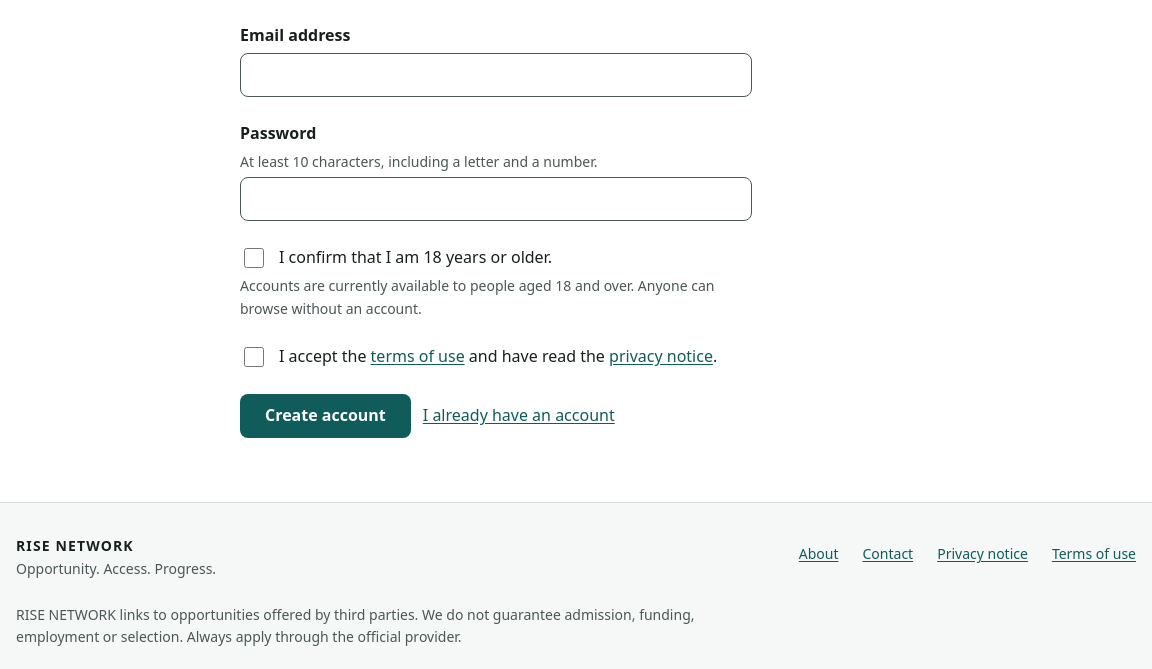
Test case: registration (FR-001) › shows field errors and does not call the API when the form is incomplete
The width and height of the screenshot is (1152, 669).
(page scrolled)
Step 1. Click the button "Create account" → (325, 416), box [240,394,411,438]
(page scrolled)
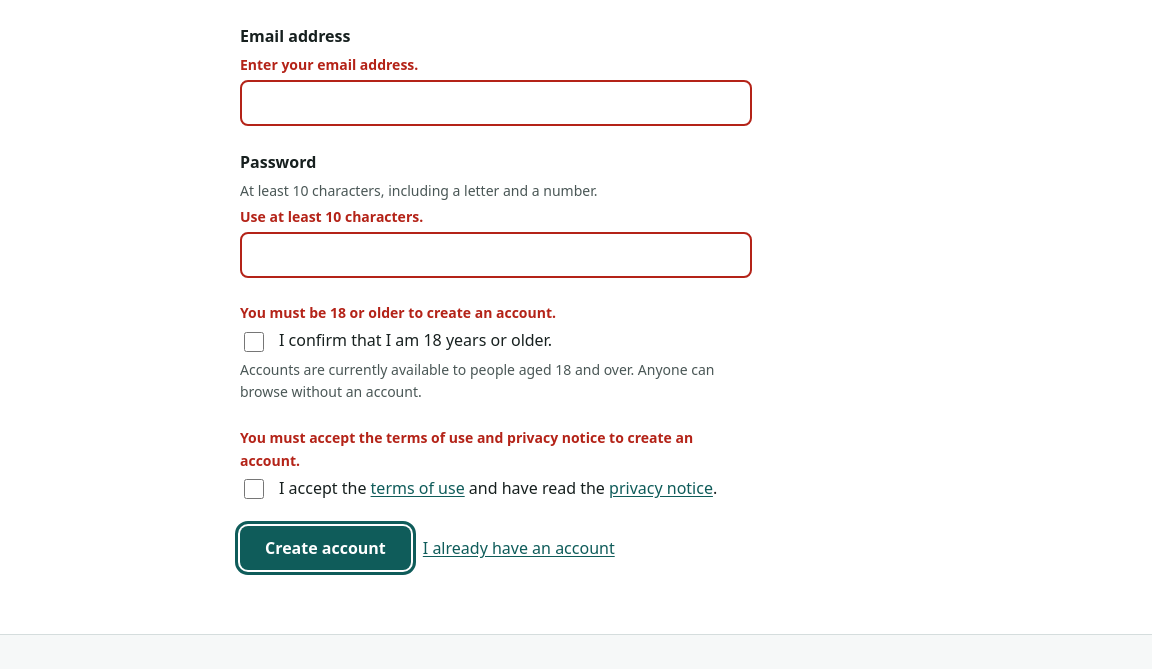
Expected: the checkbox labelled "I confirm that I am 18 years or older." is marked as invalid, [244,332,264,352]
